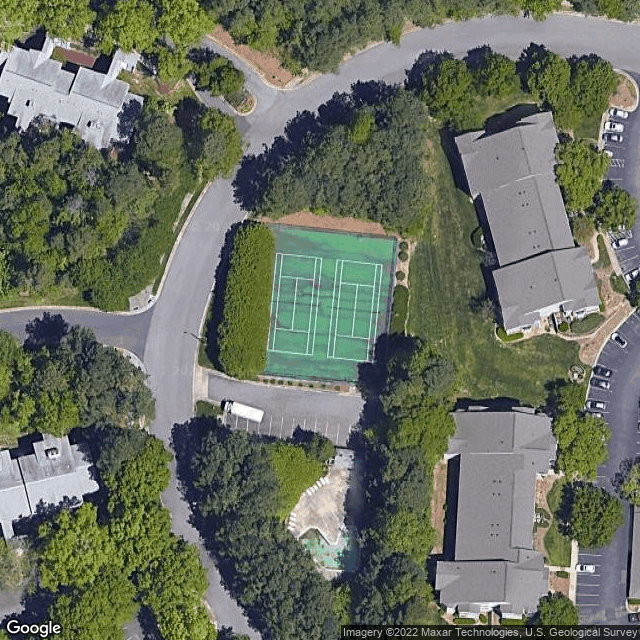Court: (266, 251, 323, 361), (325, 259, 384, 365)
